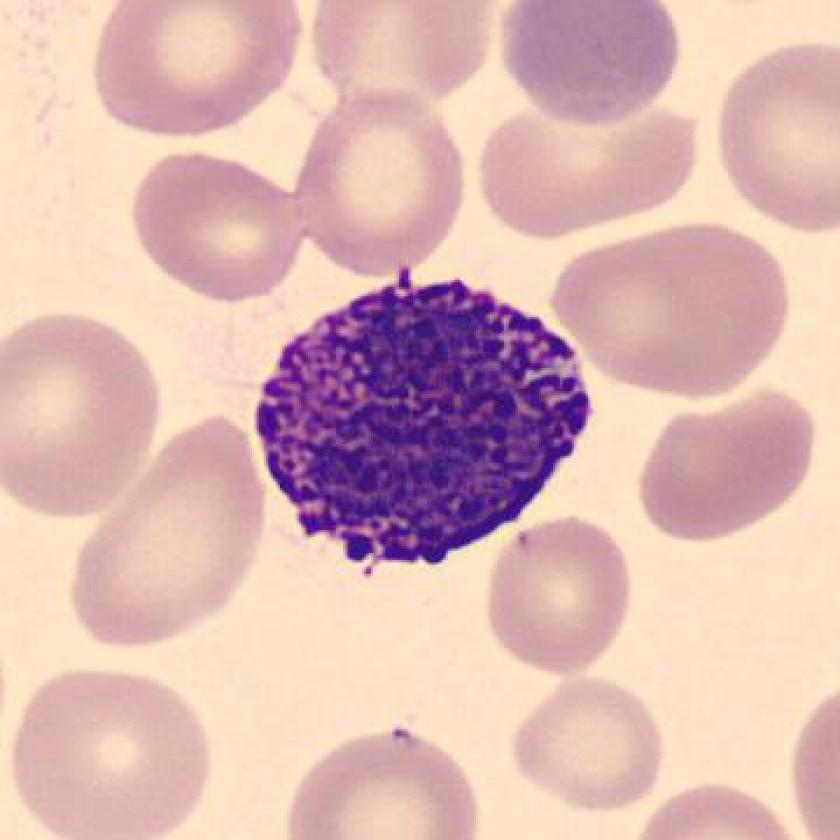basophil: (256, 269, 606, 589)
